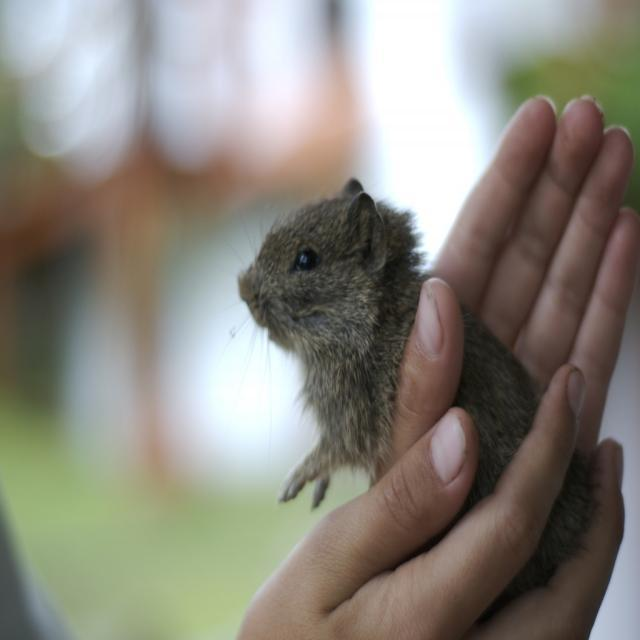rat: (232, 176, 594, 574)
